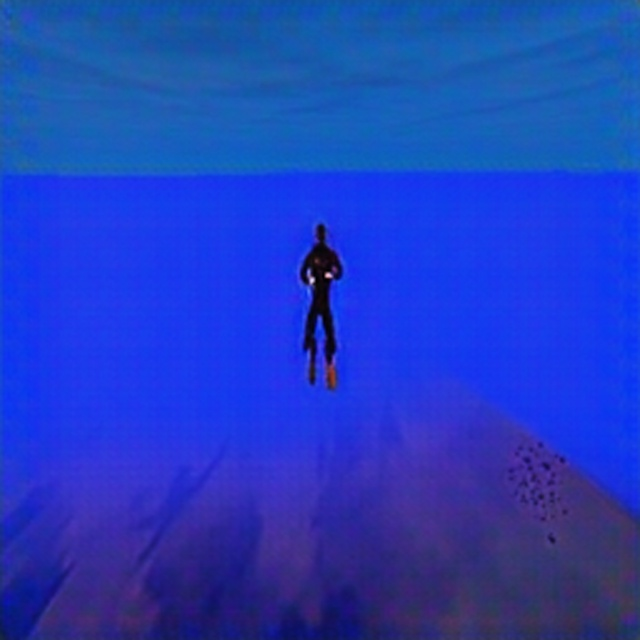diver: (296, 220, 345, 391)
